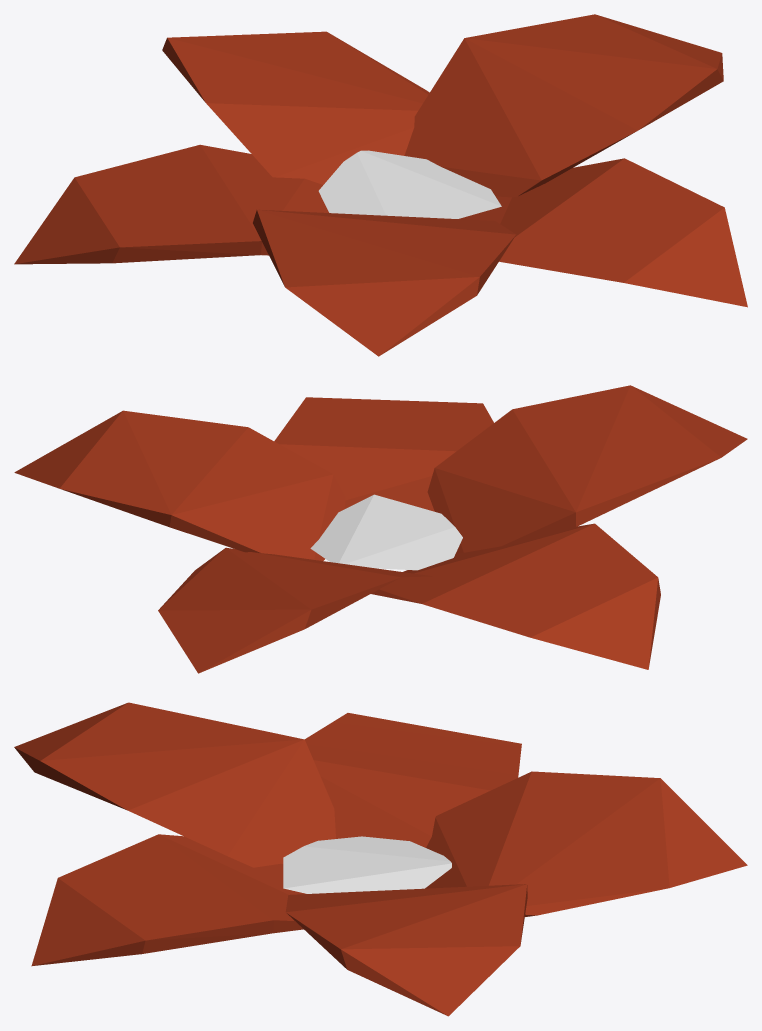
The model's file is Summer_Flower_04.glb.
3 views of the same model, one above another, from view 1: azimuth 30°, elevation 25°; view 2: azimuth 150°, elevation 25°; view 3: azimuth 270°, elevation 25° (orthographic). The views are drawn at different scales.
Visible parts, largest first — view 1: Summer_Flower_04_LOD0; view 2: Summer_Flower_04_LOD0; view 3: Summer_Flower_04_LOD0.
Part boxes in pixels (x1,y1,x2,y2): Summer_Flower_04_LOD0: [14, 14, 747, 356]; Summer_Flower_04_LOD0: [14, 385, 747, 673]; Summer_Flower_04_LOD0: [14, 702, 747, 1016].
Size of what is drawn, in the model's own units: 0.292 by 0.044 by 0.2825.
1 material, 1 textured.
